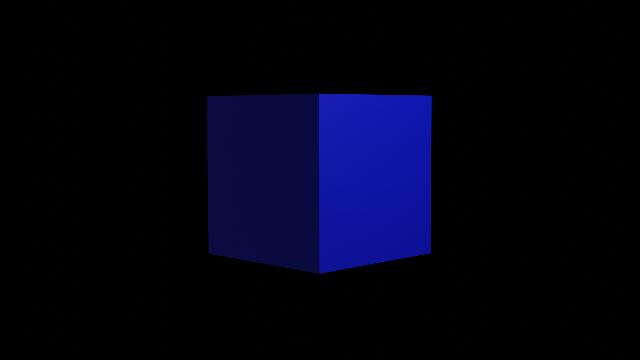Cube: (200, 89, 438, 276)
